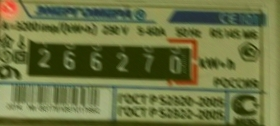0: (168, 52, 180, 74)
2: (36, 45, 51, 67), (115, 50, 128, 71)
6: (62, 49, 76, 69), (88, 50, 102, 69)
7: (140, 51, 154, 72)
screen: (16, 27, 205, 92)
